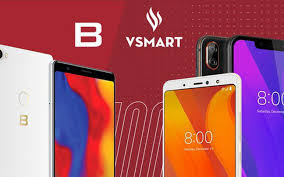bphone: (1, 45, 55, 177)
vsmart: (146, 73, 231, 177)
